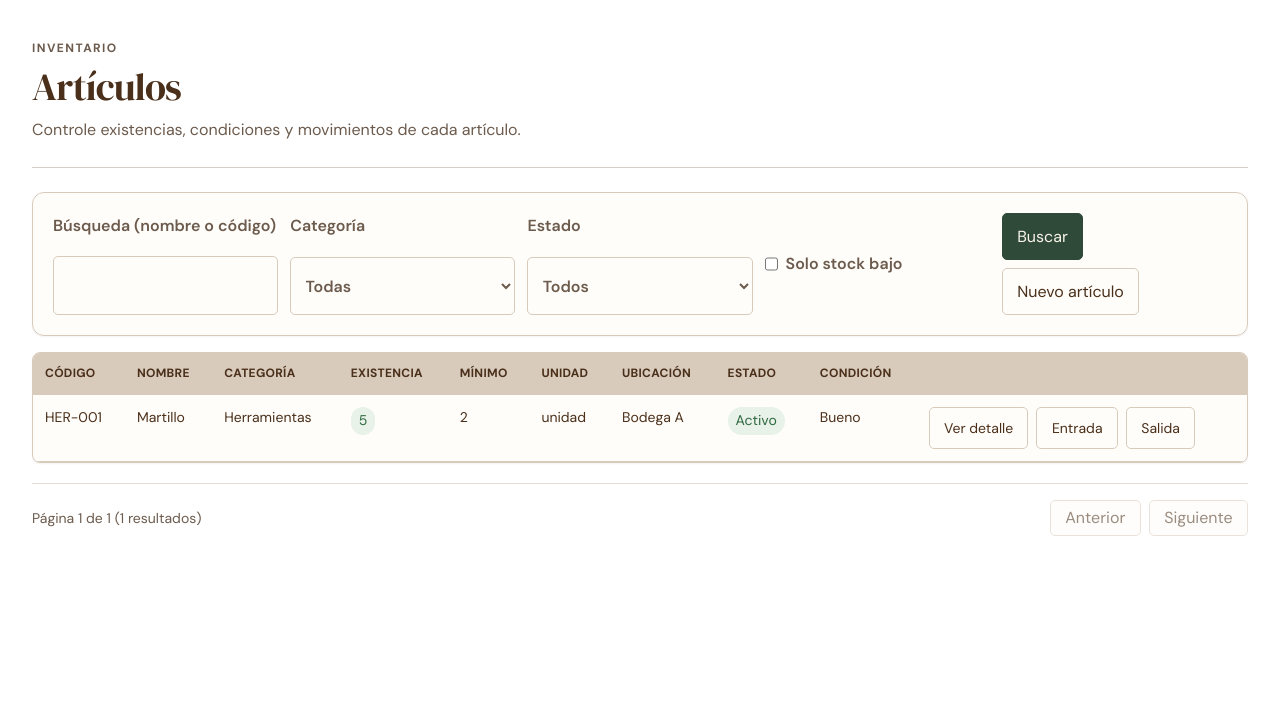
InventoryItemsPage › records an entry
Step 1. Click the button "Entrada" → (1077, 428), box [1036,407,1118,449]
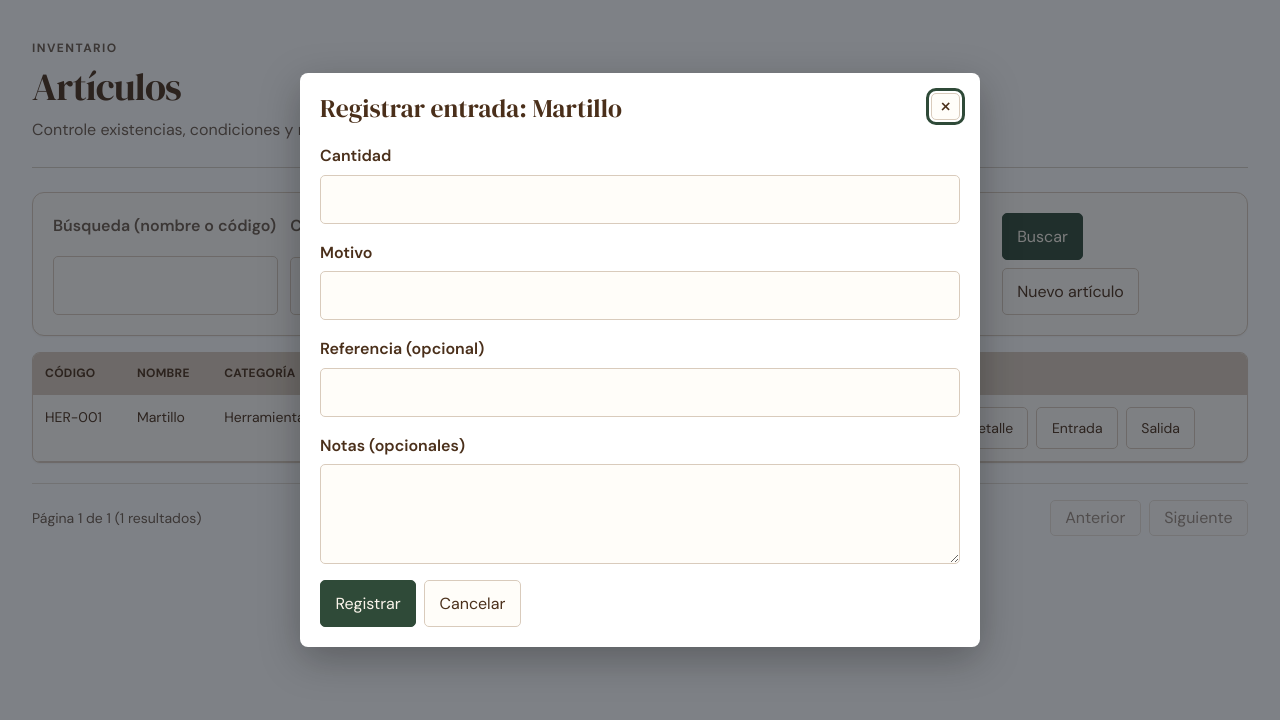
Result: the dialog "Registrar entrada: Martillo" is shown at [300,73,980,647]
Step 2. Type "3" into the number field labelled "Cantidad" → (640, 199), box [320,175,960,224]
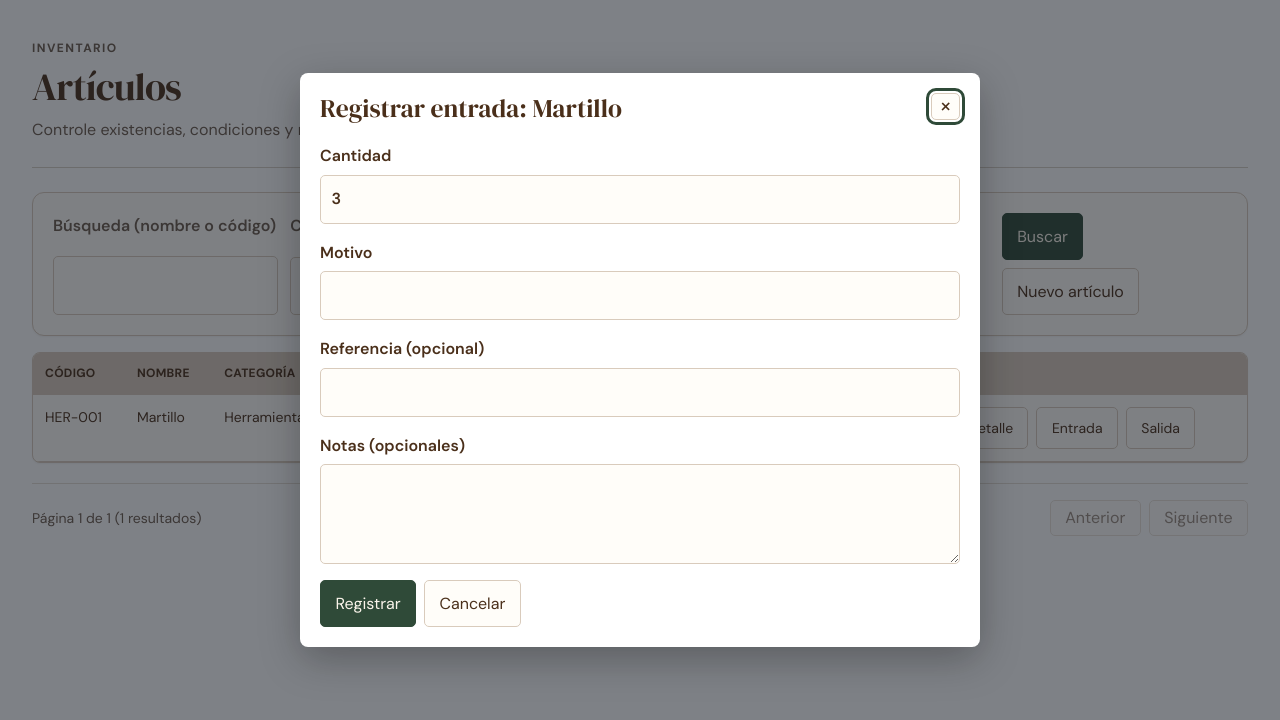
Step 3. Type "Compra" into the field labelled "Motivo" → (640, 296), box [320,271,960,320]
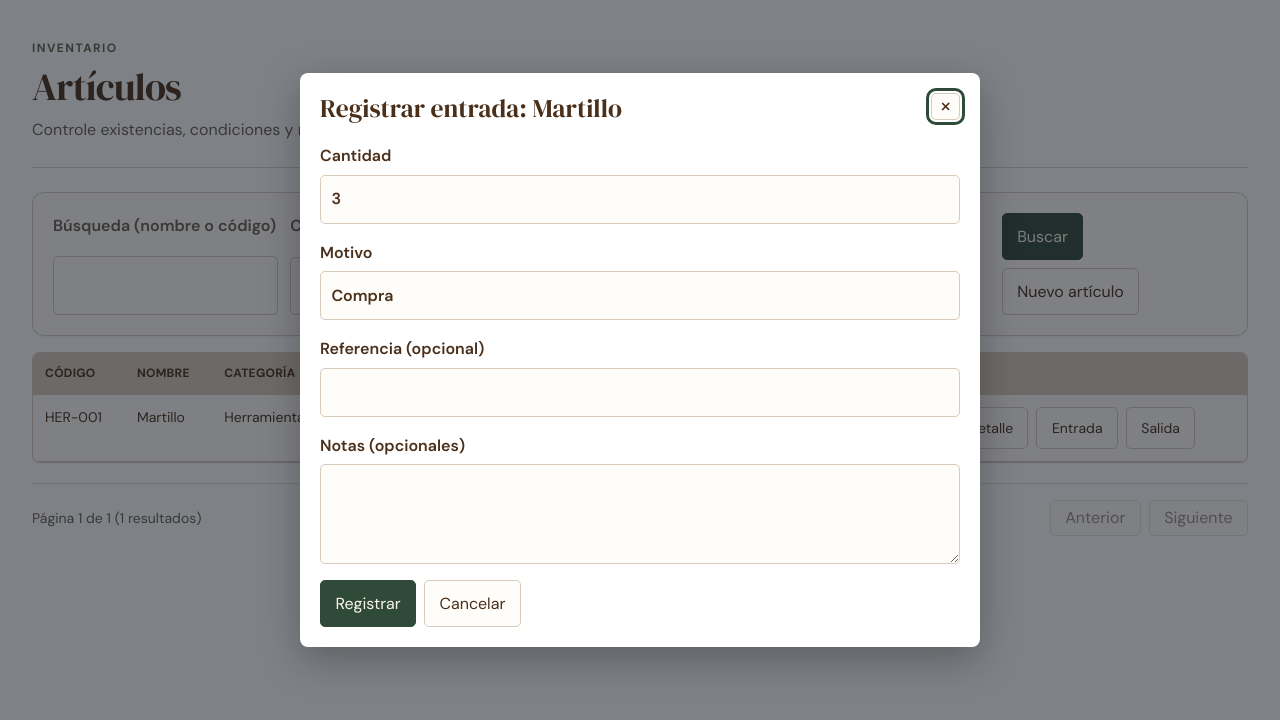
Step 4. Type "F-001" into the field labelled "Referencia (opcional)" → (640, 392), box [320,368,960,416]
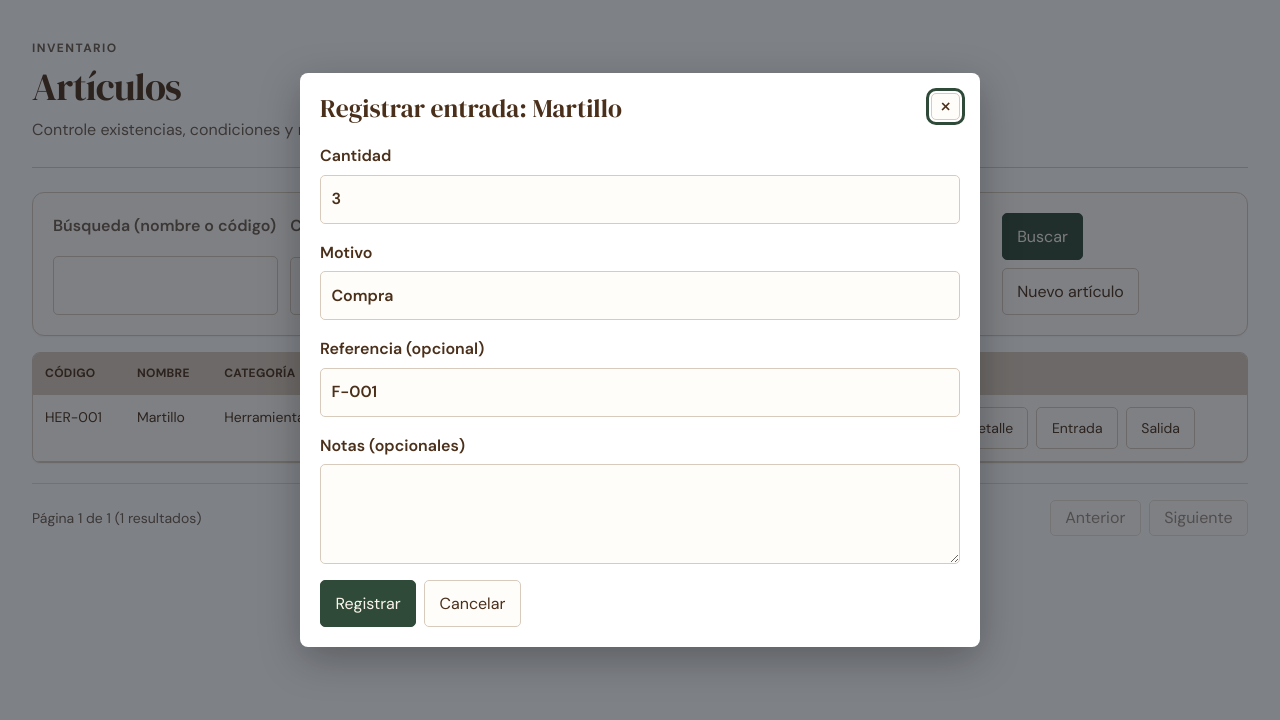
Step 5. Click the button "Registrar" → (368, 604), box [320,580,416,627]
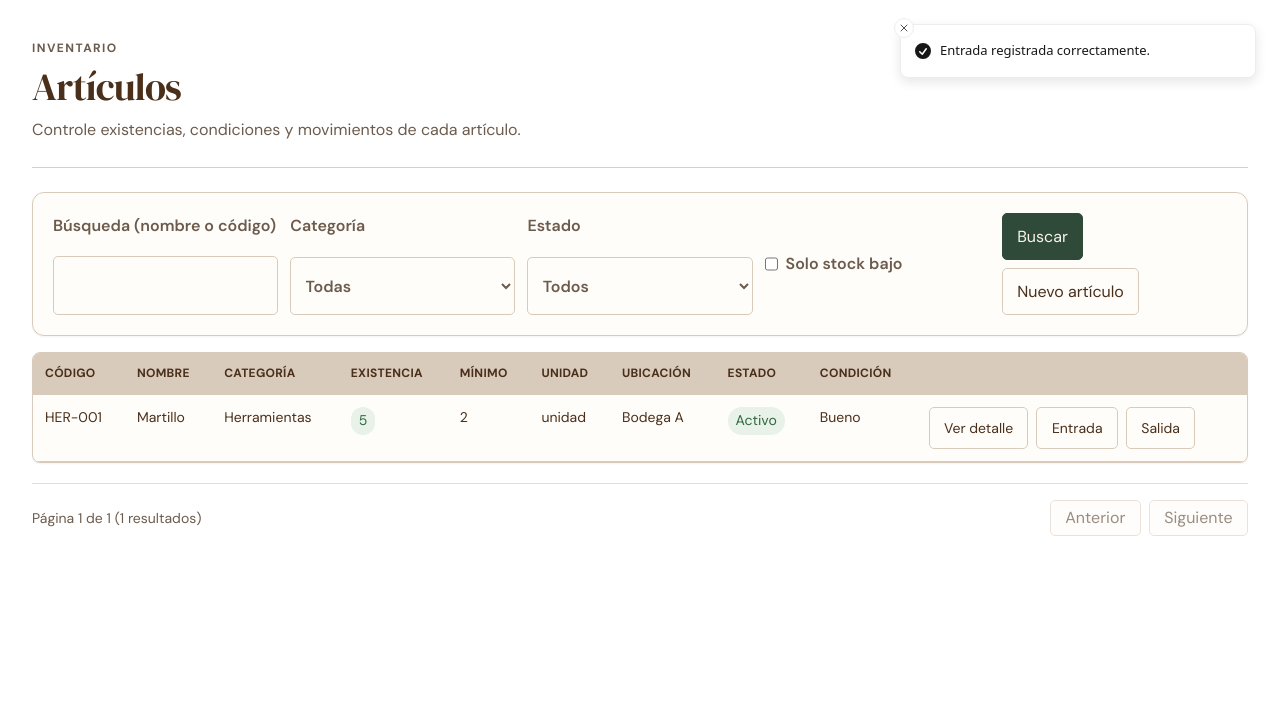
Result: the text "Entrada registrada correctamente." is shown at [940,41,1150,60]
